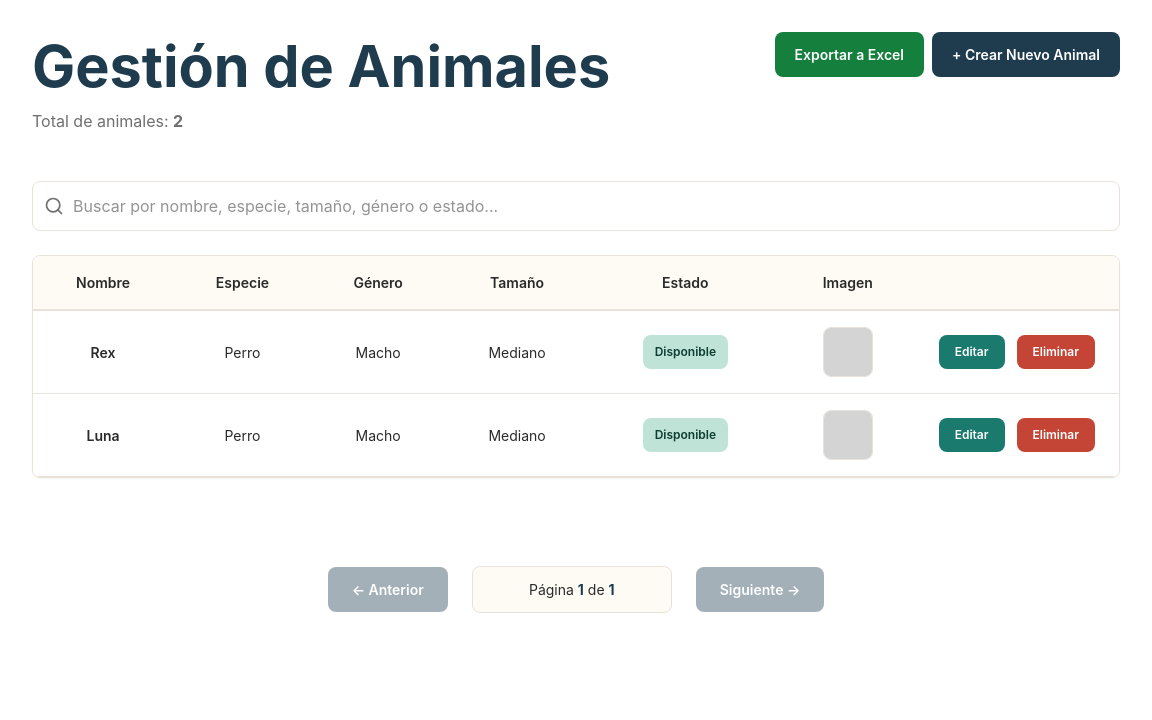
Test case: search › filters animals by name
Type "Rex" into the field with placeholder "Buscar por nombre, especie, tamaño, género o estado..." at x=576, y=206, box [32, 181, 1120, 231]
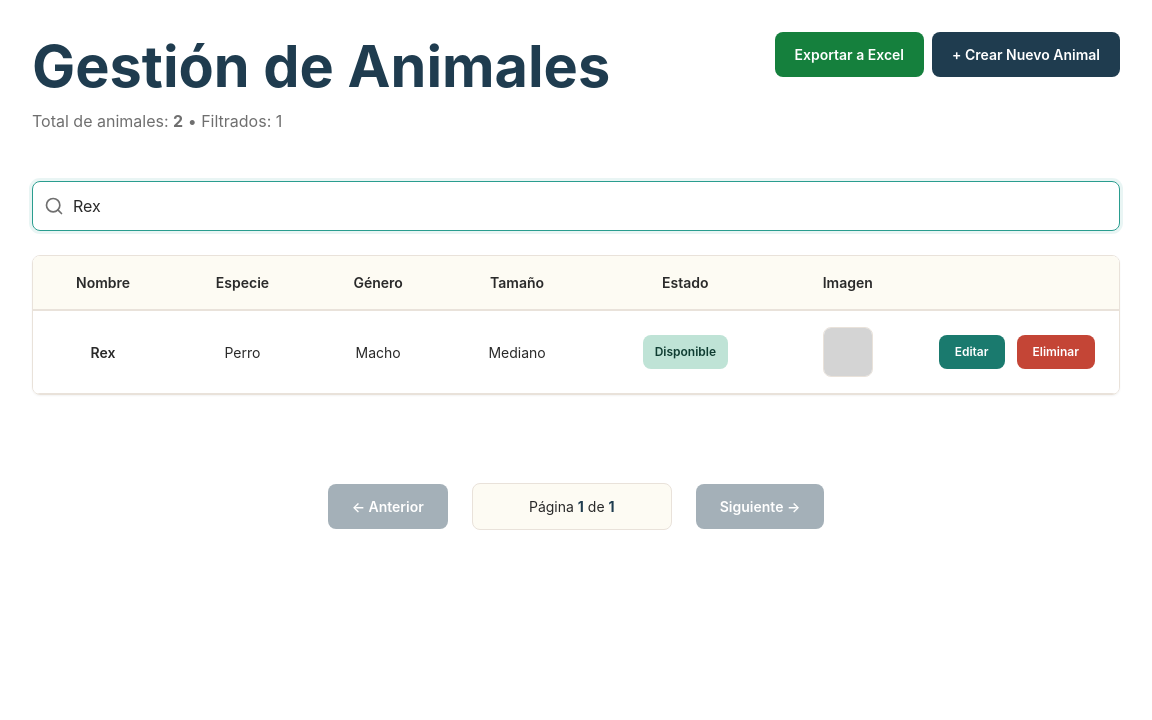
Check: the text "Rex" is shown, box [33, 310, 173, 394]
Check: the text "Luna" is gone
